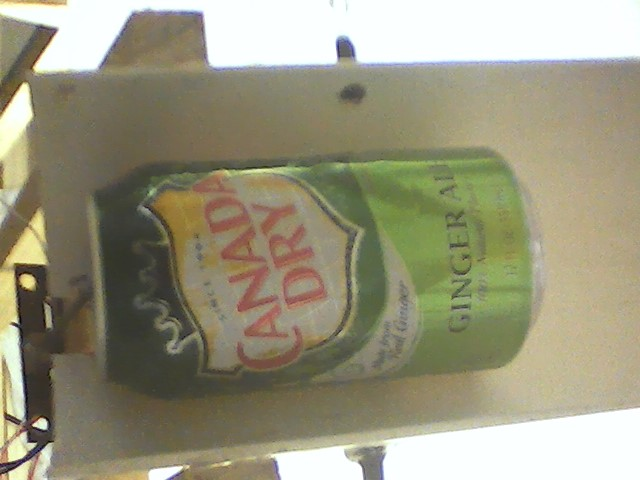lata: (82, 144, 556, 402)
